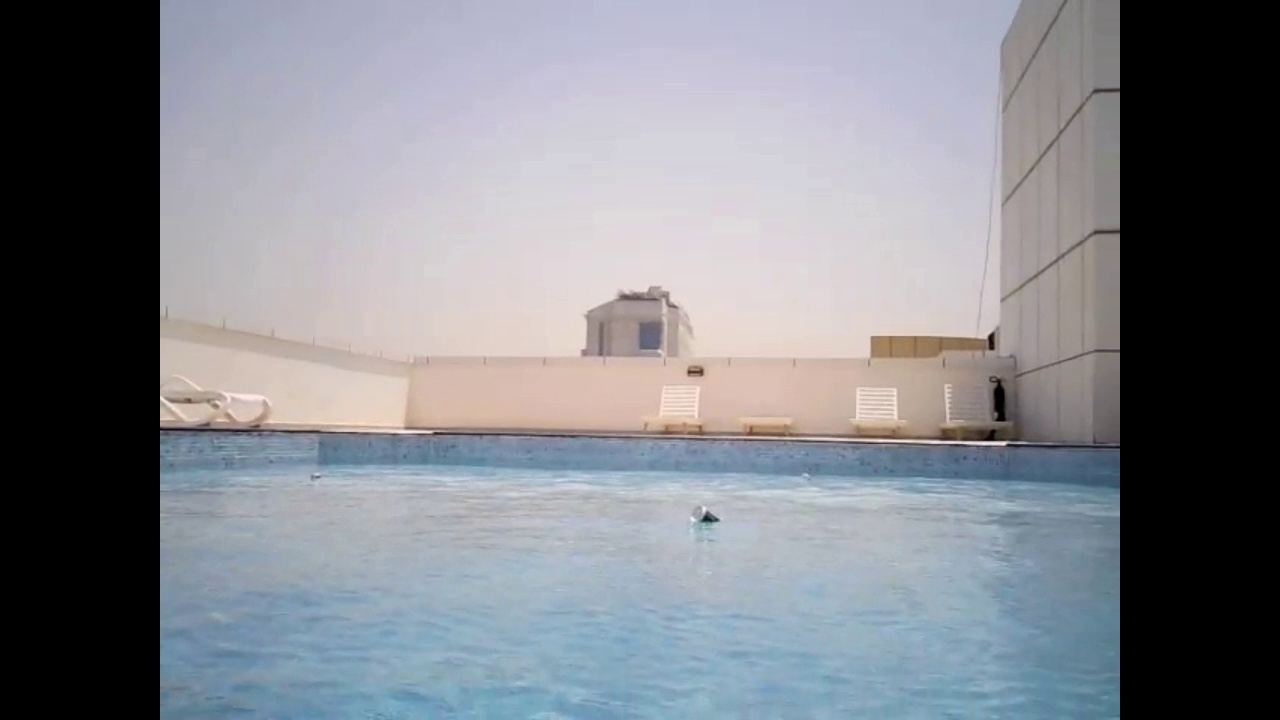debris: (685, 500, 728, 533), (305, 471, 325, 484), (797, 467, 814, 481)
